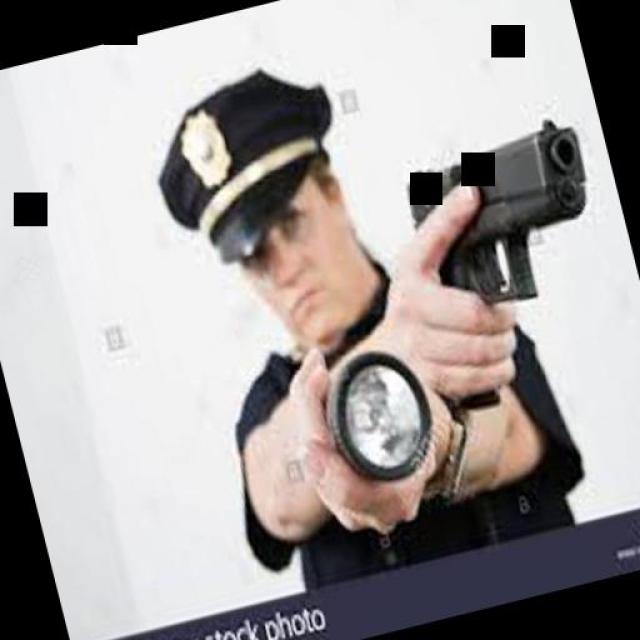gun: (392, 110, 640, 420)
